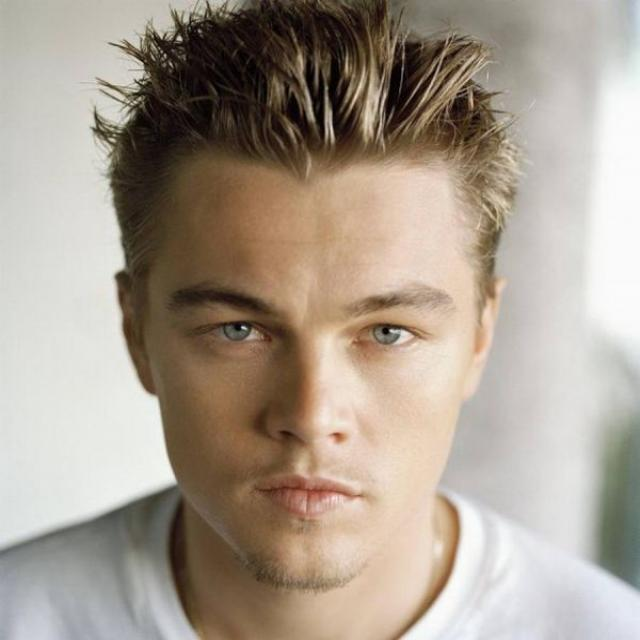earlobe: (134, 350, 156, 396), (465, 350, 485, 399)
eye: (202, 321, 268, 344), (354, 323, 419, 346)
nose: (265, 423, 359, 477)
wholeear: (114, 271, 157, 396), (465, 276, 507, 399)
